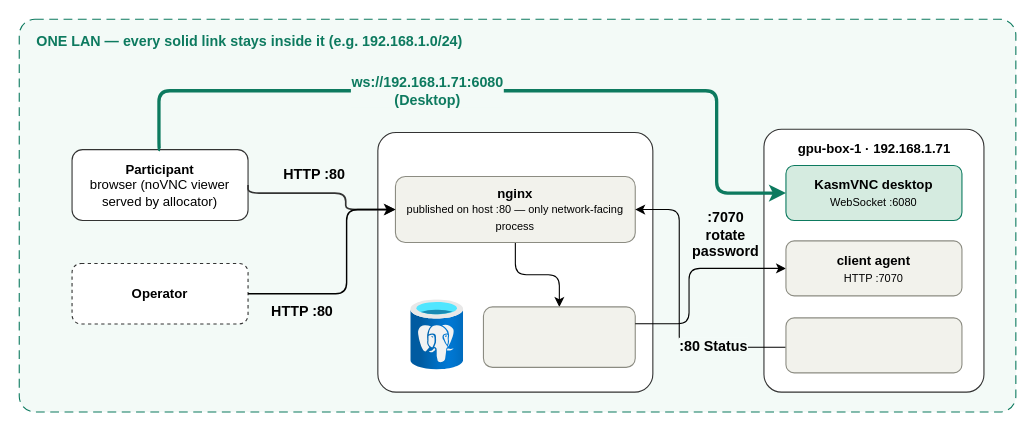
Image size: 1035x431. Some labels were removed from this diagram. Here are the shapes that lost their labels. From the top down, the box of each, then its label:
(377, 131, 653, 392): Allocator host — 192.168.1.42
(482, 306, 635, 367): Flask app 127.0.0.1:8000
(785, 317, 962, 373): Client Service
